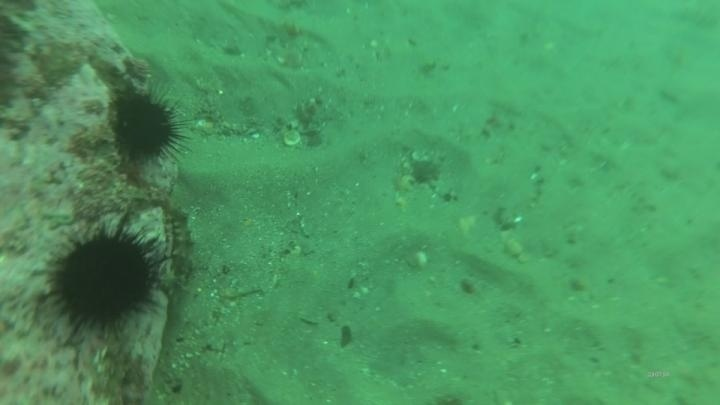echinus: (40, 218, 164, 342), (106, 84, 188, 168)
holothurian: (163, 202, 200, 289)
